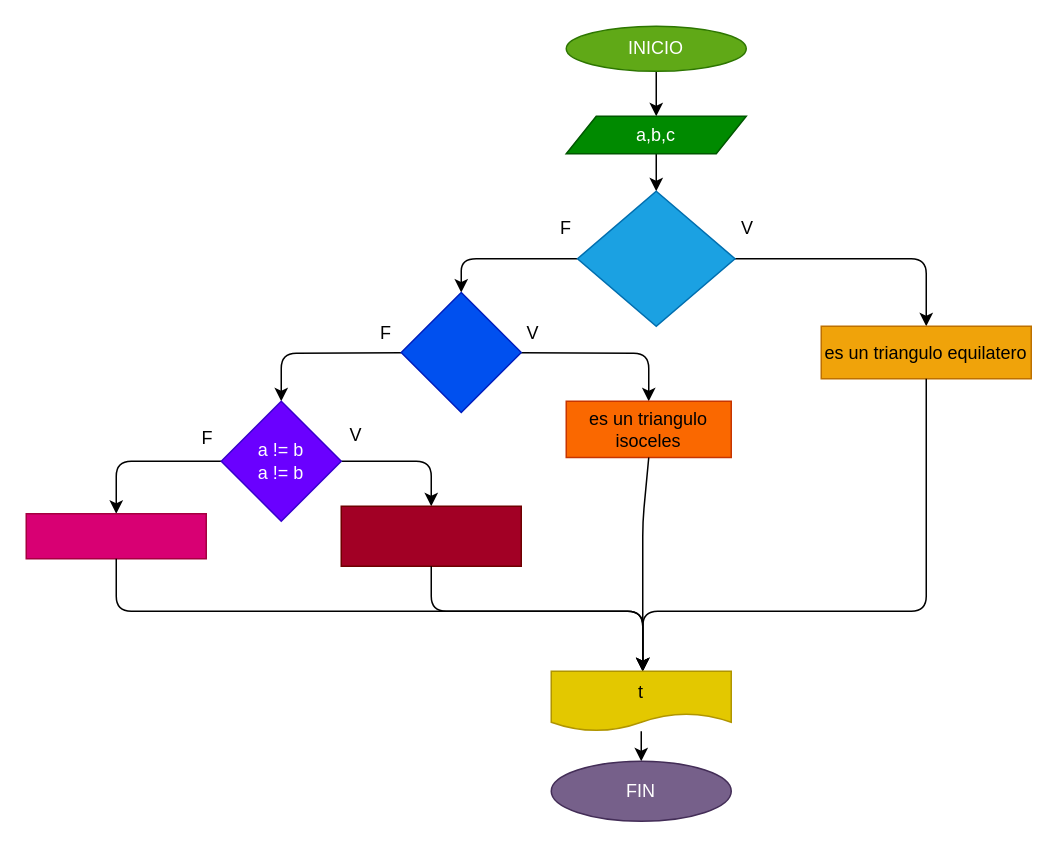
Image size: 1058x848. Some labels were removed from this diagram. The shapes that lost their labels are listed below. From the top down, each one's box as (x1, y1, x2, y2) in pixels, then its label:
(576, 190, 735, 326): a==b a==c
(400, 291, 521, 412): a==b a != c
(25, 512, 206, 559): no es ninguno de los anteriores
(340, 505, 521, 566): es triungulo escaleno
